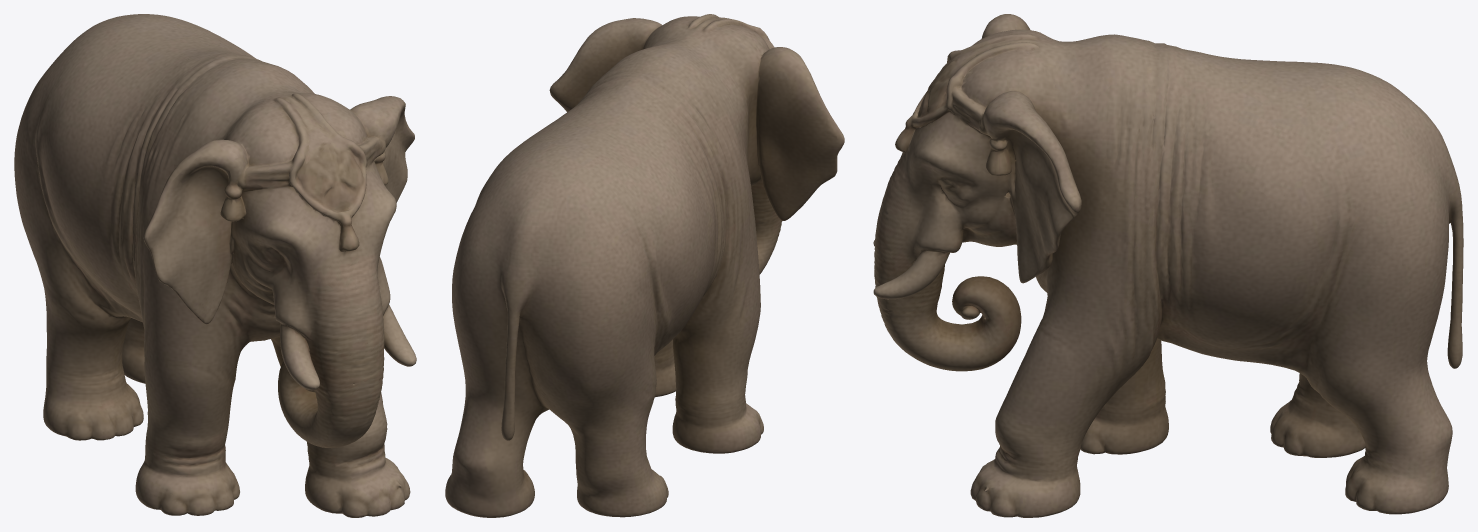
File: generation_elephant_1.glb
The picture shows the model from 3 angles, left to right: view 1: azimuth 30°, elevation 25°; view 2: azimuth 150°, elevation 25°; view 3: azimuth 270°, elevation 25°; orthographic projection. The views are drawn at different scales.
Visible parts, largest first — view 1: geometry_0; view 2: geometry_0; view 3: geometry_0.
Part boxes in pixels (x1,y1,x2,y2): geometry_0: (14, 14, 416, 517); geometry_0: (445, 14, 844, 517); geometry_0: (873, 14, 1463, 517).
Bounding box in the file's own units: 0.6036 × 0.8019 × 1.
1 material, 1 textured.
